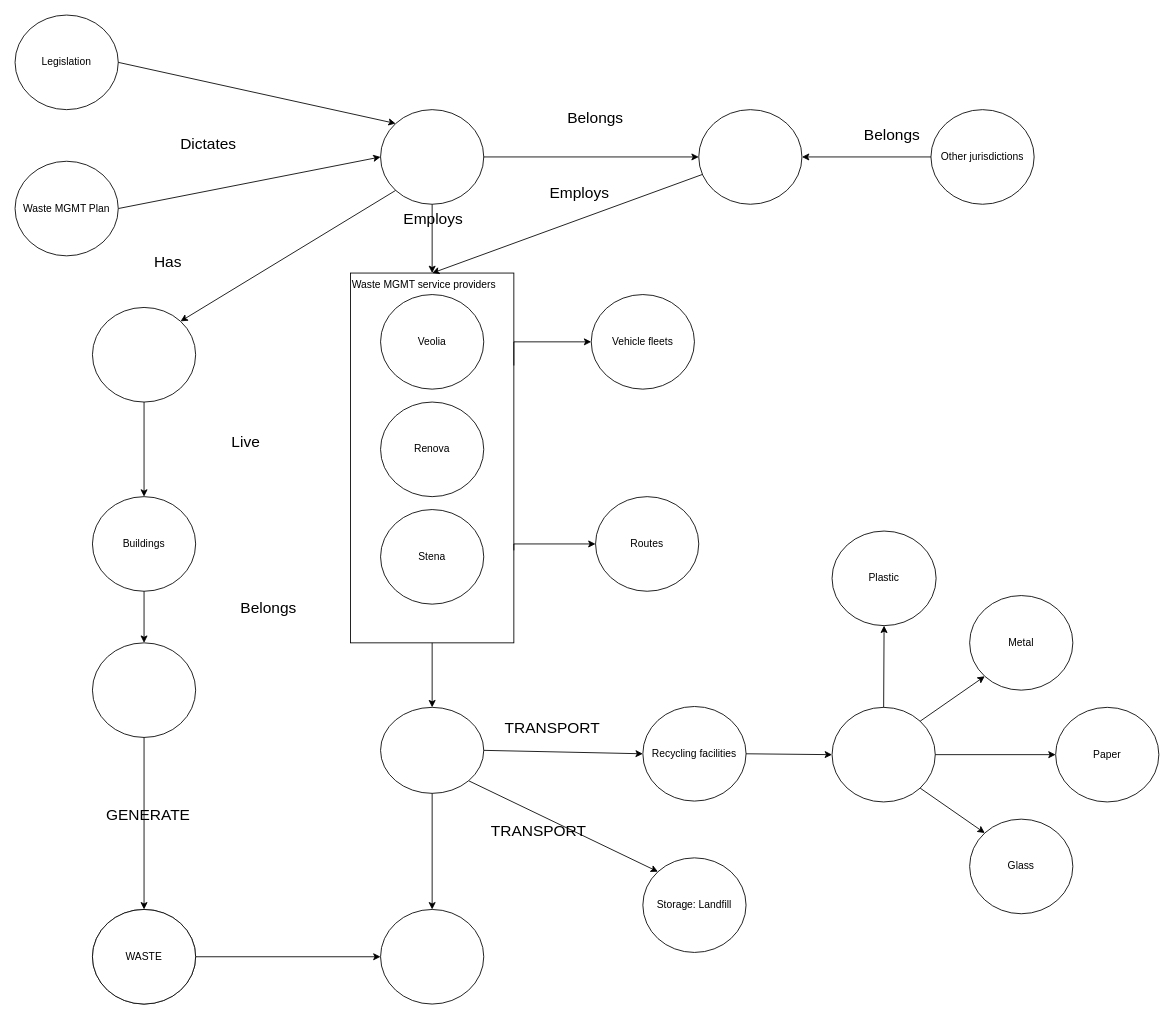
The diagram is 1174 pixels wide and 1019 high, and some of its shapes have lost their labels. The shapes that lost their labels are listed below. From the top down, each one's centre as x and y in pixels, then its label:
At point (432, 156): "Goteborg".
At point (750, 156): "Region".
At point (144, 354): "Residents".
At point (144, 689): "Blocks".
At point (432, 749): "Trucks".
At point (883, 754): "Resources".
At point (432, 956): "Containers".
